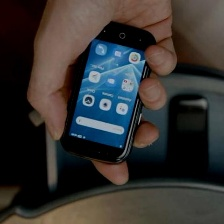phone: (53, 17, 166, 166), (163, 90, 213, 178)
